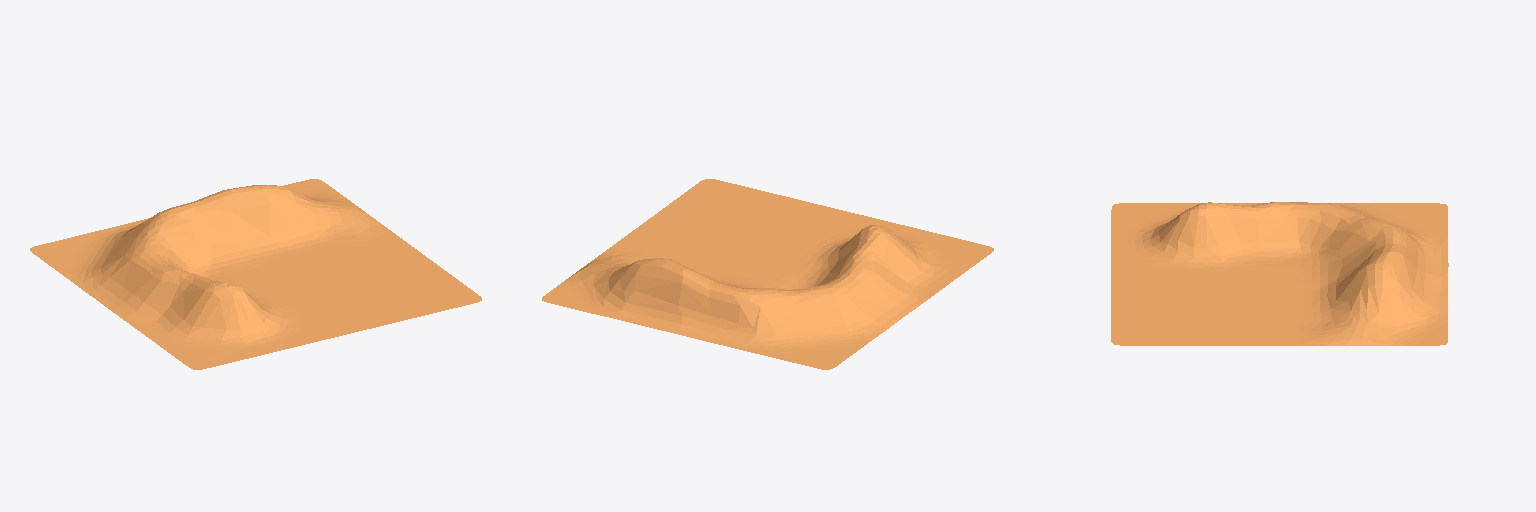
File: Ground05.obj
3 views of the same model, side by side, from view 1: azimuth 30°, elevation 25°; view 2: azimuth 150°, elevation 25°; view 3: azimuth 270°, elevation 25° (orthographic).
Parts seen in each view (by area): view 1: Plane; view 2: Plane; view 3: Plane.
Boxes of the visible parts, box(x1,y1,x2,y2) form: Plane: box(30, 179, 481, 369); Plane: box(542, 179, 993, 369); Plane: box(1111, 202, 1448, 345).
Size of the model in its own units: 60.04 by 7.55 by 60.04.